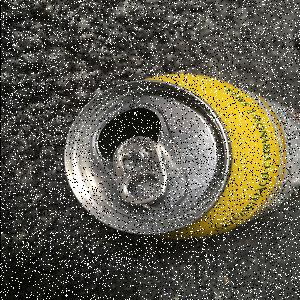Can: (63, 73, 300, 243)
